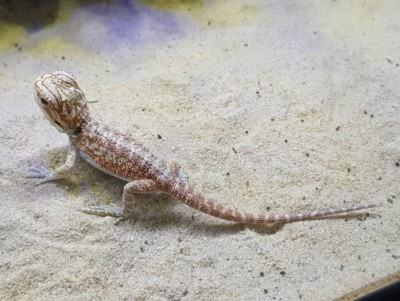bearded: (28, 69, 378, 246)
